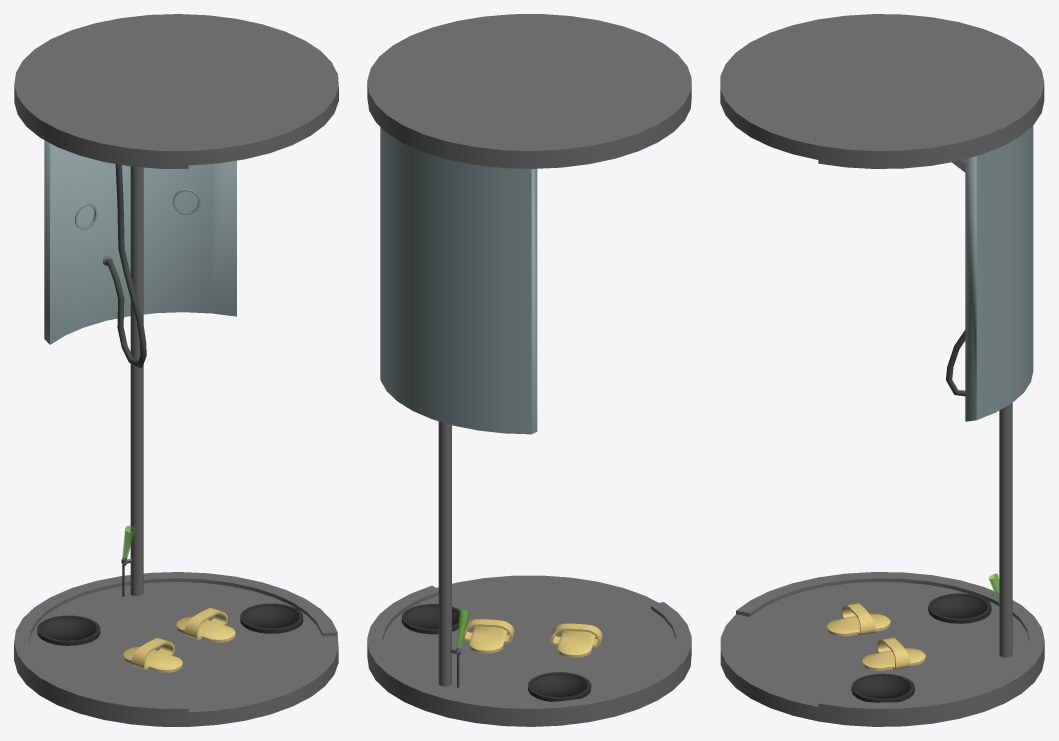
The model's file is showerTube.fbx.
3 renders of one model, left to right at view 1: azimuth 30°, elevation 25°; view 2: azimuth 150°, elevation 25°; view 3: azimuth 270°, elevation 25°, orthographic.
Visible parts, largest first — view 1: showerTube; view 2: showerTube; view 3: showerTube.
Part boxes in pixels (x1,y1,x2,y2): showerTube: [14, 14, 338, 726]; showerTube: [367, 14, 691, 726]; showerTube: [720, 14, 1044, 726].
Bounding box in the file's own units: 102 × 200 × 102.
